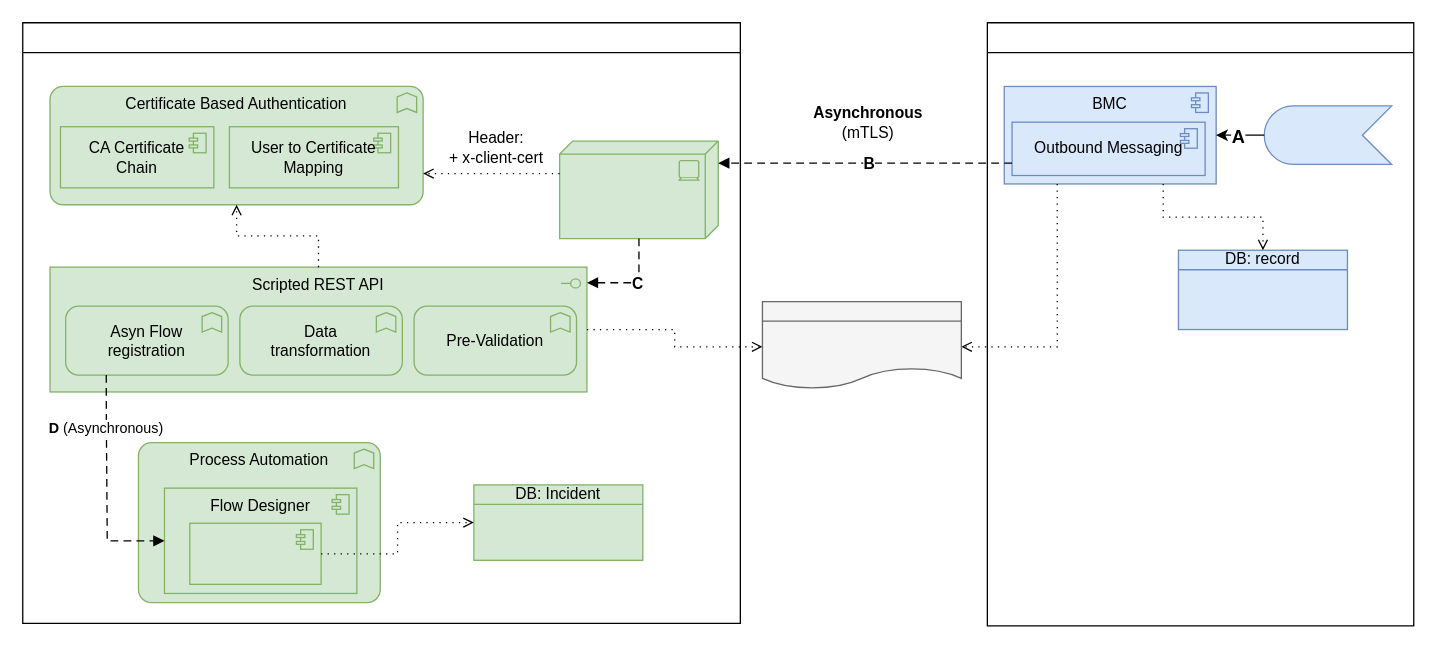
The diagram is 1437 pixels wide and 649 high, and some of its shapes have lost their labels. The box of each missing label's shape, as (x1, y1, x2, y2) in pixels:
ADCv2 load balancer (SSL termination): (558, 140, 718, 239)
BMC-Astea: (986, 21, 1414, 626)
Data Changes: (1263, 105, 1392, 164)
Flow Action: (188, 522, 321, 584)
ServiceNow: (21, 21, 740, 623)
XML: Outbound Message: (761, 300, 961, 392)
